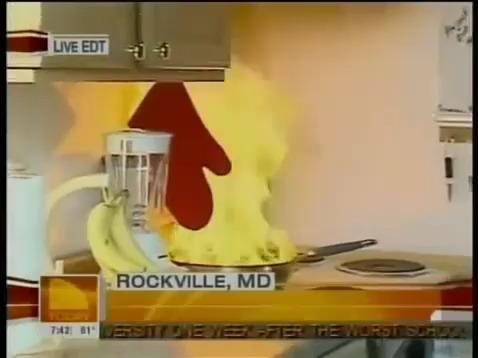fire: (152, 57, 299, 268)
